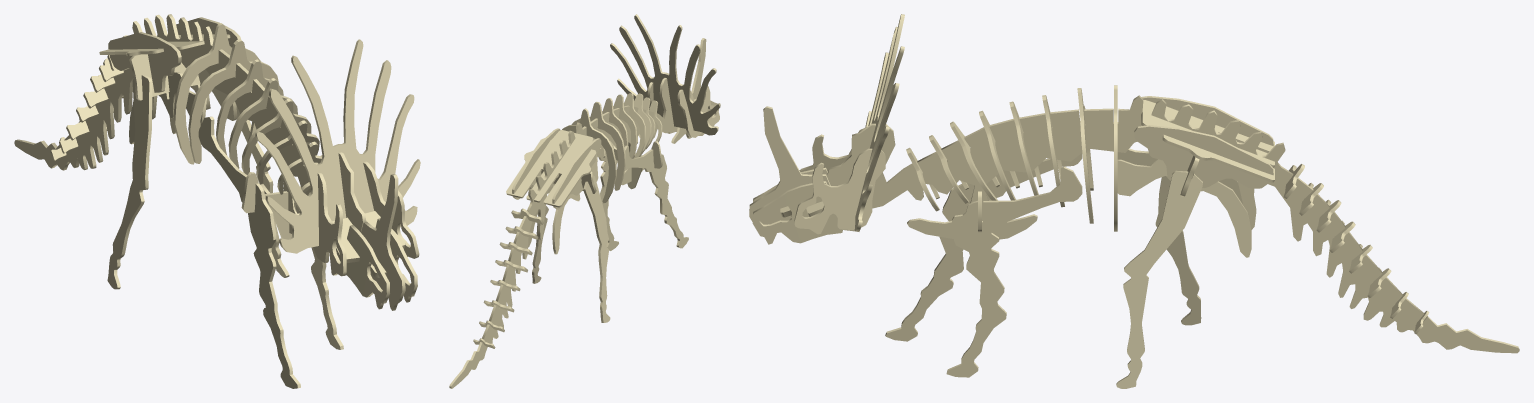
File: triceratops_toy.glb
3 renders of one model, left to right at view 1: azimuth 30°, elevation 25°; view 2: azimuth 150°, elevation 25°; view 3: azimuth 270°, elevation 25°, orthographic. The views are drawn at different scales.
Parts seen in each view (by area): view 1: Hood_24, Spine_4, f_Legs_1, b_Legs_0, Two_Hornes_7, Bones.001_2, Face_6, Horn_5, Rib.001_10, Rib.002_8, Bones.002_3, Rib.003_9 (+8 smaller); view 2: Spine_4, Hood_24, Bones.003_27, f_Legs_1, b_Legs_0, Bones.001_2, Rib.001_10, Rib.002_8, Two_Hornes_7, Bones.002_3, Horn_5, Rib.005_12 (+4 smaller); view 3: Spine_4, f_Legs_1, b_Legs_0, Bones.001_2, Two_Hornes_7, Bones.002_3, Hood_24, Face_6, Horn_5, Bones.003_27, Rib.002_8, Rib.005_12 (+1 smaller).
Part boxes in pixels (x1,y1,x2,y2): Hood_24: [255, 39, 420, 253]; Spine_4: [14, 14, 366, 233]; f_Legs_1: [198, 116, 343, 388]; b_Legs_0: [107, 74, 289, 289]; Two_Hornes_7: [313, 161, 419, 276]; Bones.001_2: [108, 17, 240, 92]; Face_6: [346, 218, 417, 309]; Horn_5: [361, 174, 405, 310]; Rib.001_10: [173, 23, 260, 164]; Rib.002_8: [188, 39, 279, 163]; Bones.002_3: [129, 69, 237, 144]; Rib.003_9: [216, 59, 283, 154]; Spine_4: [449, 78, 677, 388]; Hood_24: [610, 14, 720, 135]; Bones.003_27: [506, 130, 596, 207]; f_Legs_1: [597, 145, 688, 250]; b_Legs_0: [529, 175, 610, 322]; Bones.001_2: [512, 128, 601, 209]; Rib.001_10: [562, 108, 616, 203]; Rib.002_8: [571, 101, 625, 190]; Two_Hornes_7: [647, 82, 719, 137]; Bones.002_3: [528, 159, 598, 254]; Horn_5: [671, 38, 709, 143]; Rib.005_12: [600, 93, 645, 158]; Spine_4: [827, 95, 1519, 353]; f_Legs_1: [885, 153, 1082, 377]; b_Legs_0: [1116, 170, 1202, 388]; Bones.001_2: [1134, 96, 1273, 188]; Two_Hornes_7: [794, 126, 885, 234]; Bones.002_3: [1117, 148, 1251, 257]; Hood_24: [854, 14, 904, 231]; Face_6: [752, 167, 842, 244]; Horn_5: [749, 106, 855, 231]; Bones.003_27: [1141, 100, 1274, 182]; Rib.002_8: [1077, 88, 1093, 223]; Rib.005_12: [979, 110, 1019, 200].
Size of the model in its own units: 11.87 by 23.87 by 50.7.
